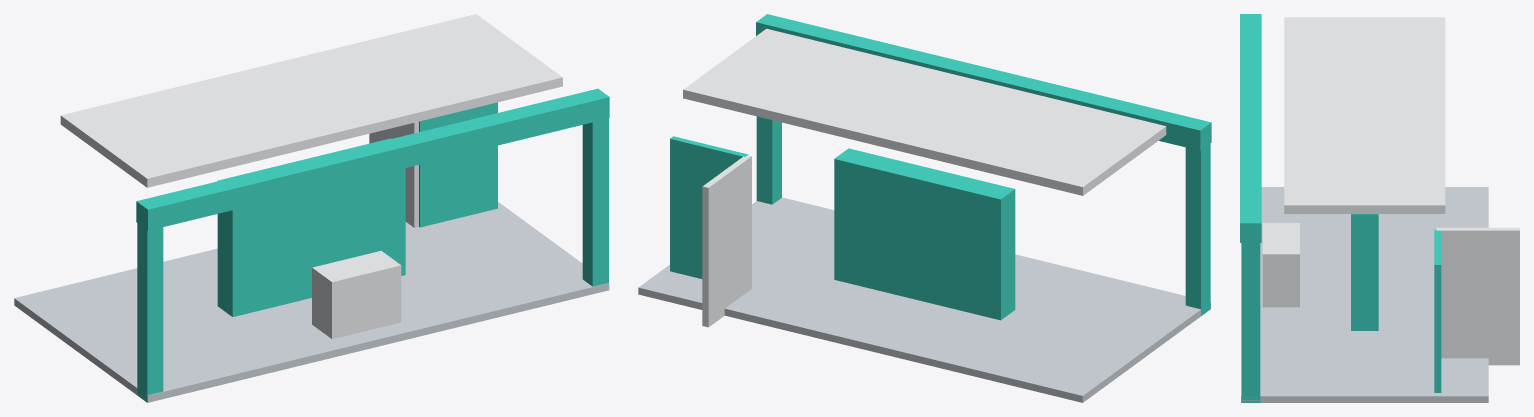
3 views of the same model, side by side, from view 1: azimuth 30°, elevation 25°; view 2: azimuth 150°, elevation 25°; view 3: azimuth 270°, elevation 25° (orthographic). The views are drawn at different scales.
Parts seen in each view (by area): view 1: Exhibition Booth Concept; view 2: Exhibition Booth Concept; view 3: Exhibition Booth Concept.
Part boxes in pixels (x1,y1,x2,y2): Exhibition Booth Concept: (14, 14, 609, 402); Exhibition Booth Concept: (638, 14, 1211, 402); Exhibition Booth Concept: (1240, 14, 1519, 402).
Size of the model in its own units: 8 by 3.34 by 4.52.
